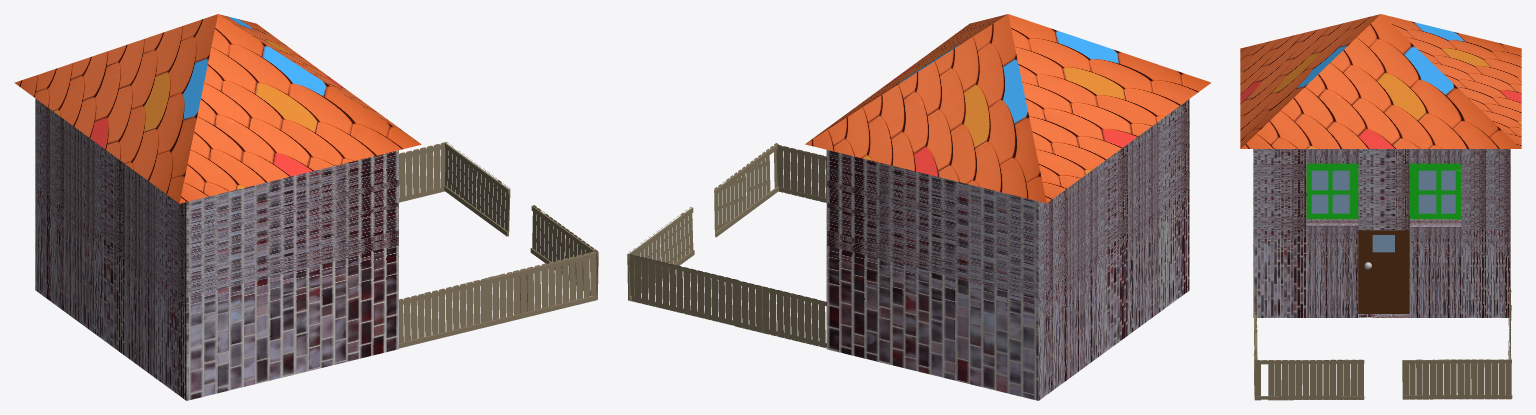
The model's file is haus3_mit_vorgarten.fbx.
3 renders of one model, left to right at view 1: azimuth 30°, elevation 25°; view 2: azimuth 150°, elevation 25°; view 3: azimuth 270°, elevation 25°, orthographic. The views are drawn at different scales.
Parts seen in each view (by area): view 1: haus; view 2: haus; view 3: haus.
Boxes of the visible parts, x1,y1,x2,y2 form: haus: (14,14,598,400); haus: (627,14,1210,400); haus: (1240,14,1521,400).
Bounding box in the file's own units: 1174 × 1754 × 1200.
Materials: 13 (4 with a texture image).
